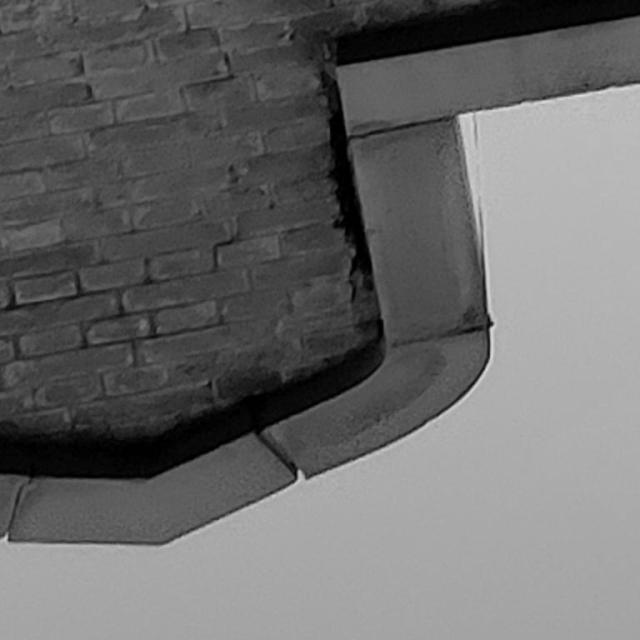crack: (316, 66, 372, 302)
